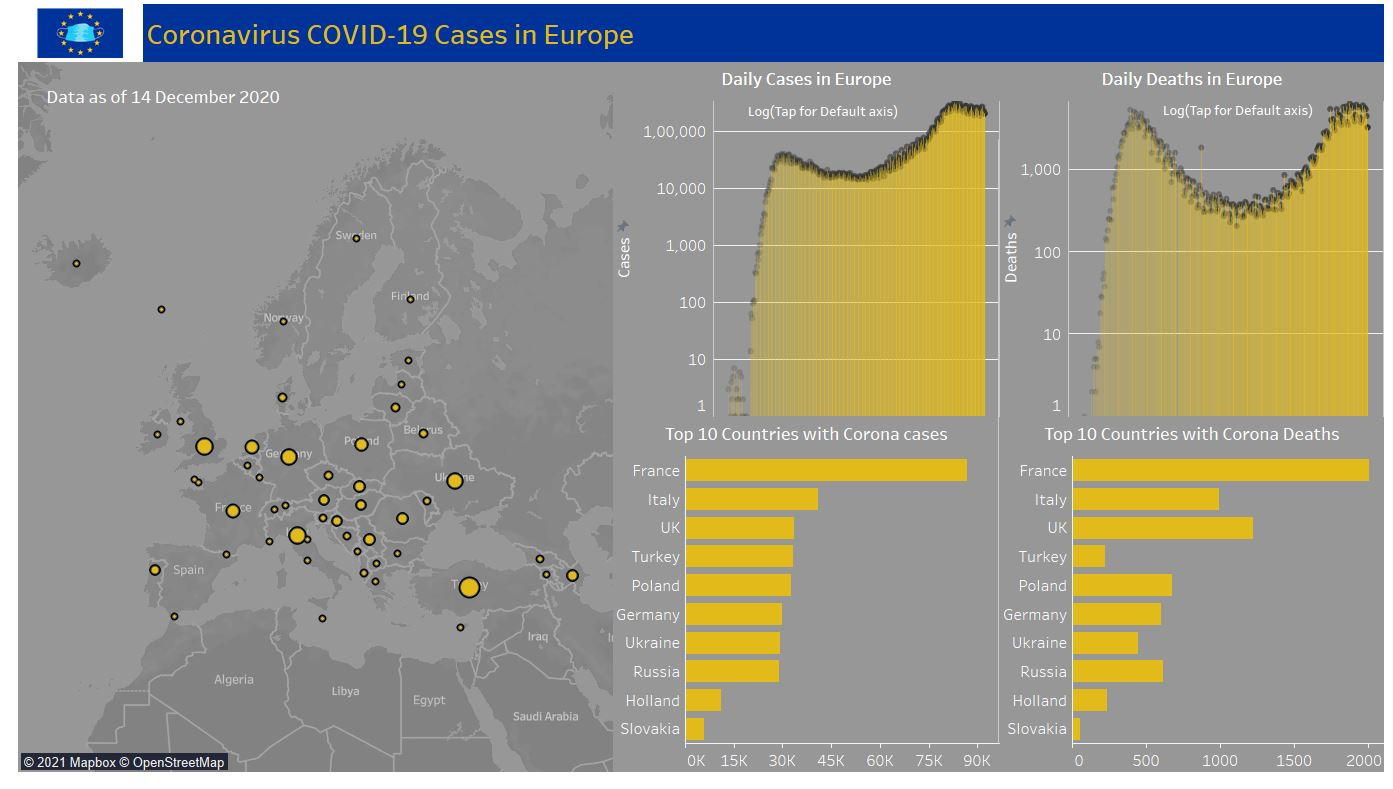

Layout of this report page (visuals, bound fields, positions):
{"tool":"tableau","page":{"name":"Dashboard 1","canvas":[1366,768],"ordinal":0},"visuals":[{"type":"worksheet","box":[0,0,1366,768]},{"type":"worksheet","param":"vert","box":[1,1,1366,768]},{"type":"worksheet","param":"horz","box":[1,1,1366,58]},{"type":"worksheet","param":"C:/Users/arthi/OneDrive/Desktop/corona.jpg","box":[1,1,125,58]},{"type":"worksheet","box":[126,1,1241,58]},{"type":"worksheet","param":"horz","box":[8,8,1350,752]},{"type":"worksheet","param":"horz","box":[8,8,1190,752]},{"type":"worksheet","box":[8,8,1190,752]},{"type":"worksheet","param":"vert","box":[1198,8,160,752]},{"type":"worksheet","title":"Deaths Europe Log","mark":"Area","rows":["deaths","deaths"],"cols":["dateRep"],"box":[1198,8,160,119]},{"type":"worksheet","param":"horz","box":[1,59,1366,710]},{"type":"worksheet","title":"Map","mark":"Automatic","box":[1,59,595,710]},{"type":"worksheet","box":[596,59,387,710]},{"type":"worksheet","title":"Cases Europe","mark":"Automatic","rows":["cases","cases"],"cols":["dateRep"],"box":[596,59,387,355]},{"type":"worksheet","box":[983,59,384,710]},{"type":"worksheet","param":"vert","box":[983,59,384,355]},{"type":"worksheet","title":"Deaths Europe","mark":"Area","rows":["deaths","deaths"],"cols":["dateRep"],"box":[983,59,384,355]},{"type":"worksheet","param":"horz","box":[983,59,384,355]},{"type":"worksheet","title":"Deaths Europe Log","mark":"Area","rows":["deaths","deaths"],"cols":["dateRep"],"box":[983,59,384,355]},{"type":"worksheet","box":[26,78,260,30]},{"type":"worksheet","param":"horz","box":[596,91,387,339]},{"type":"worksheet","title":"Cases Europe Log ","mark":"Automatic","rows":["cases","cases"],"cols":["dateRep"],"box":[596,91,387,339]},{"type":"worksheet","box":[705,99,203,19]},{"type":"worksheet","box":[1132,99,178,16]},{"type":"worksheet","param":"horz","box":[981,136,1,605]},{"type":"worksheet","param":"vert","box":[596,414,387,355]},{"type":"worksheet","title":"Bars Cases ","mark":"Automatic","rows":["countriesAndTerritories"],"cols":["cases"],"box":[596,414,387,355]},{"type":"worksheet","param":"vert","box":[983,414,384,355]},{"type":"worksheet","title":"Bars Deaths","mark":"Automatic","rows":["countriesAndTerritories"],"cols":["deaths"],"box":[983,414,384,355]}]}

Visuals, with their boxes in screenshot pixels (x1, y1, x2, y2), scaled from the page's 1366x768 canvas onto the 1393x789 screenshot:
worksheet: {"x1": 0, "y1": 0, "x2": 1392, "y2": 788}
worksheet: {"x1": 1, "y1": 1, "x2": 1392, "y2": 788}
worksheet: {"x1": 1, "y1": 1, "x2": 1392, "y2": 61}
worksheet: {"x1": 1, "y1": 1, "x2": 128, "y2": 61}
worksheet: {"x1": 128, "y1": 1, "x2": 1392, "y2": 61}
worksheet: {"x1": 8, "y1": 8, "x2": 1385, "y2": 781}
worksheet: {"x1": 8, "y1": 8, "x2": 1222, "y2": 781}
worksheet: {"x1": 8, "y1": 8, "x2": 1222, "y2": 781}
worksheet: {"x1": 1222, "y1": 8, "x2": 1385, "y2": 781}
"Deaths Europe Log" worksheet (Area marks): {"x1": 1222, "y1": 8, "x2": 1385, "y2": 130}
worksheet: {"x1": 1, "y1": 61, "x2": 1392, "y2": 788}
"Map" worksheet: {"x1": 1, "y1": 61, "x2": 608, "y2": 788}
worksheet: {"x1": 608, "y1": 61, "x2": 1002, "y2": 788}
"Cases Europe" worksheet: {"x1": 608, "y1": 61, "x2": 1002, "y2": 425}
worksheet: {"x1": 1002, "y1": 61, "x2": 1392, "y2": 788}
worksheet: {"x1": 1002, "y1": 61, "x2": 1392, "y2": 425}
"Deaths Europe" worksheet (Area marks): {"x1": 1002, "y1": 61, "x2": 1392, "y2": 425}
worksheet: {"x1": 1002, "y1": 61, "x2": 1392, "y2": 425}
"Deaths Europe Log" worksheet (Area marks): {"x1": 1002, "y1": 61, "x2": 1392, "y2": 425}
worksheet: {"x1": 27, "y1": 80, "x2": 292, "y2": 111}
worksheet: {"x1": 608, "y1": 93, "x2": 1002, "y2": 442}
"Cases Europe Log " worksheet: {"x1": 608, "y1": 93, "x2": 1002, "y2": 442}
worksheet: {"x1": 719, "y1": 102, "x2": 926, "y2": 121}
worksheet: {"x1": 1154, "y1": 102, "x2": 1336, "y2": 118}
worksheet: {"x1": 1000, "y1": 140, "x2": 1001, "y2": 761}
worksheet: {"x1": 608, "y1": 425, "x2": 1002, "y2": 788}
"Bars Cases " worksheet: {"x1": 608, "y1": 425, "x2": 1002, "y2": 788}
worksheet: {"x1": 1002, "y1": 425, "x2": 1392, "y2": 788}
"Bars Deaths" worksheet: {"x1": 1002, "y1": 425, "x2": 1392, "y2": 788}
